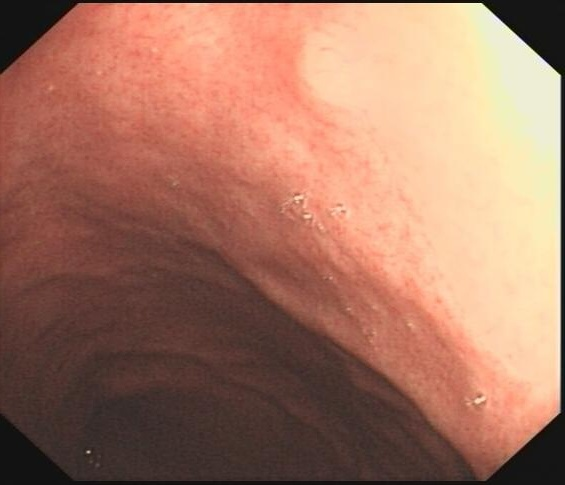Polyp: (286, 23, 392, 120)
